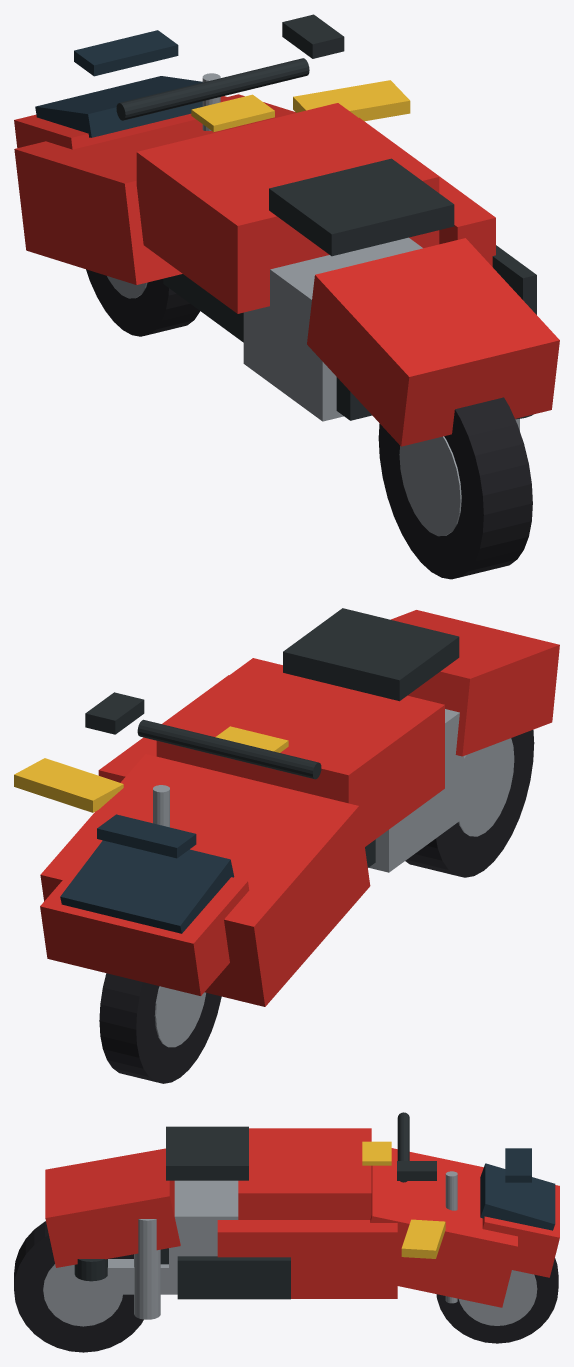
Rendered from champion_bike.glb.
The picture shows the model from 3 angles, top to bottom: view 1: azimuth 30°, elevation 25°; view 2: azimuth 150°, elevation 25°; view 3: azimuth 270°, elevation 25°; orthographic projection. The views are drawn at different scales.
Parts seen in each view (by area): view 1: Rear Tail, Fuel Tank, Front Fairing, Rear Wheel, Seat, Engine, Windscreen, Rear Wheel Rim, Front Wheel, Handlebar, Champion Winglet, Headlight (+6 smaller); view 2: Front Fairing, Fuel Tank, Rear Tail, Nose, Seat, Windscreen, Front Wheel, Rear Wheel, Engine, Rear Wheel Rim, Champion Winglet, Handlebar (+6 smaller); view 3: Front Fairing, Rear Tail, Fuel Tank, Side Fairing, Rear Wheel, Carbon Side Panel, Seat, Engine, Windscreen, Front Wheel, Rear Wheel Rim, Nose (+10 smaller).
Part boxes in pixels (bbox=[...]): Rear Tail: bbox=[307, 238, 559, 446]; Fuel Tank: bbox=[136, 103, 439, 313]; Front Fairing: bbox=[14, 94, 295, 284]; Rear Wheel: bbox=[378, 397, 532, 579]; Seat: bbox=[269, 158, 454, 256]; Engine: bbox=[243, 237, 422, 421]; Windscreen: bbox=[35, 76, 202, 137]; Rear Wheel Rim: bbox=[399, 436, 461, 536]; Front Wheel: bbox=[86, 269, 200, 336]; Handlebar: bbox=[116, 58, 309, 120]; Champion Winglet: bbox=[293, 80, 410, 121]; Headlight: bbox=[74, 30, 178, 76]; Front Fairing: bbox=[40, 754, 370, 1006]; Fuel Tank: bbox=[156, 658, 444, 846]; Rear Tail: bbox=[391, 610, 559, 756]; Nose: bbox=[40, 843, 249, 995]; Seat: bbox=[283, 608, 459, 701]; Windscreen: bbox=[60, 840, 234, 933]; Front Wheel: bbox=[99, 973, 221, 1083]; Rear Wheel: bbox=[405, 730, 534, 877]; Engine: bbox=[369, 709, 464, 872]; Rear Wheel Rim: bbox=[458, 738, 514, 836]; Champion Winglet: bbox=[14, 758, 123, 812]; Handlebar: bbox=[137, 719, 321, 779]; Front Fairing: bbox=[370, 1148, 517, 1307]; Rear Tail: bbox=[45, 1148, 180, 1267]; Fuel Tank: bbox=[238, 1128, 371, 1219]; Side Fairing: bbox=[217, 1220, 397, 1298]; Rear Wheel: bbox=[14, 1221, 143, 1352]; Carbon Side Panel: bbox=[177, 1256, 290, 1299]; Seat: bbox=[166, 1126, 248, 1180]; Engine: bbox=[169, 1180, 238, 1291]; Windscreen: bbox=[480, 1163, 555, 1230]; Front Wheel: bbox=[436, 1258, 558, 1343]; Rear Wheel Rim: bbox=[43, 1264, 122, 1326]; Nose: bbox=[482, 1185, 559, 1277].
Size of the model in its own units: 1.79 by 1.77 by 4.09.
